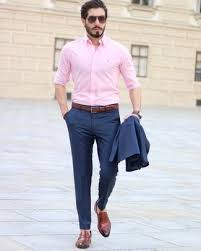F_belt: (67, 98, 122, 118)
F_dress pants: (63, 99, 116, 218)
F_shirt: (54, 38, 150, 105)
